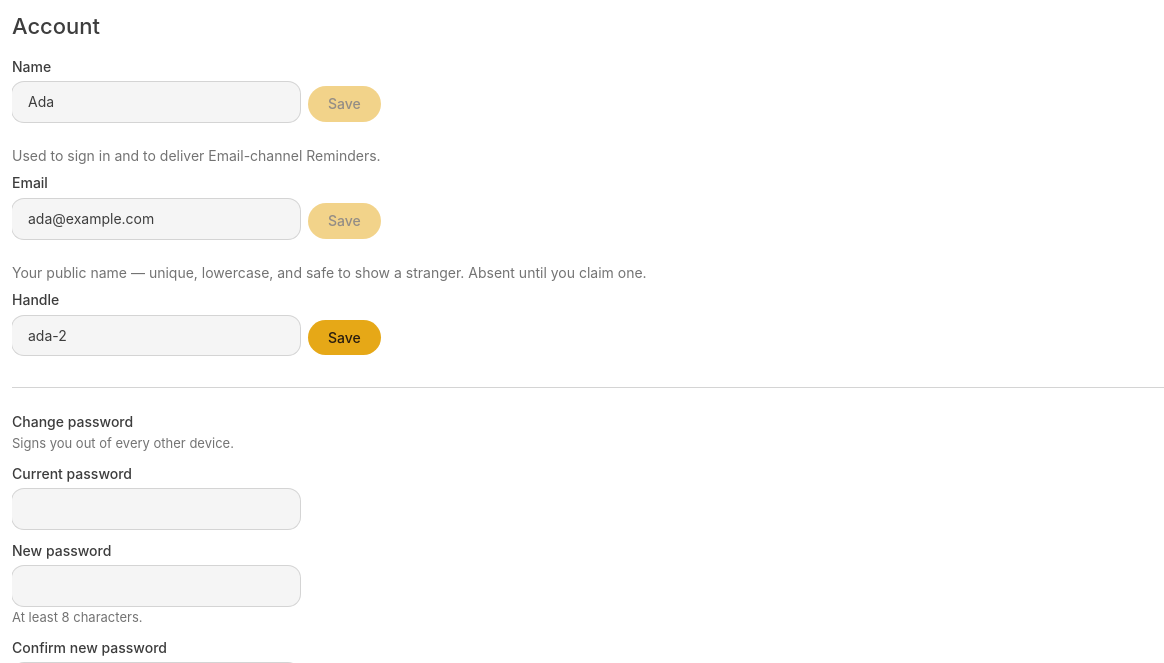
Test: AccountSection — Name/Email normalization (#245) › re-syncs the Name field from the server's normalized value after save
Replace the text in the field labelled "Name" with "QA Tester  ": (156, 102) left=12, top=82, right=300, bottom=122
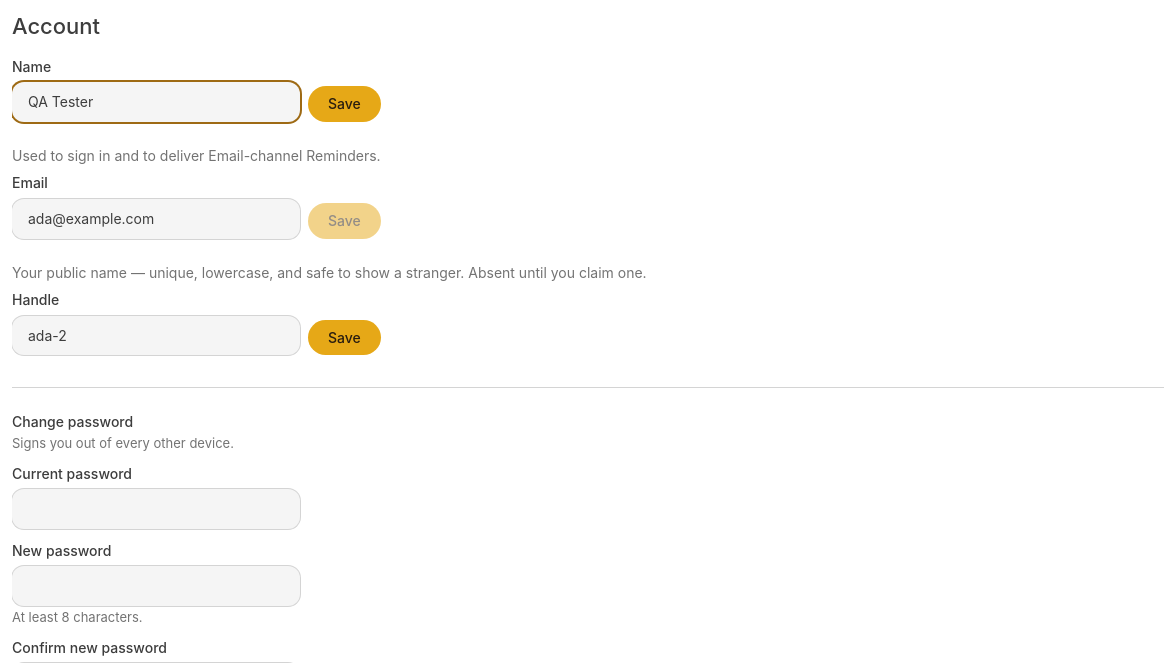
Click the 1st button "Save": (344, 104) left=308, top=86, right=381, bottom=122
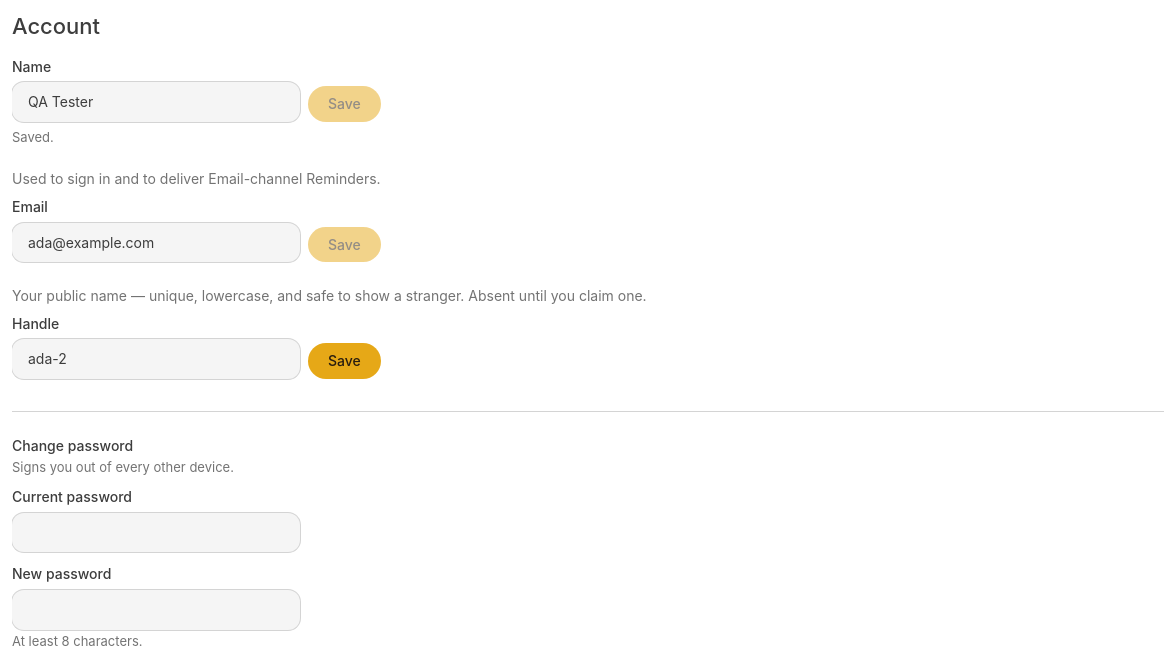
Now the 1st button "Save" is disabled, box left=308, top=86, right=381, bottom=122
